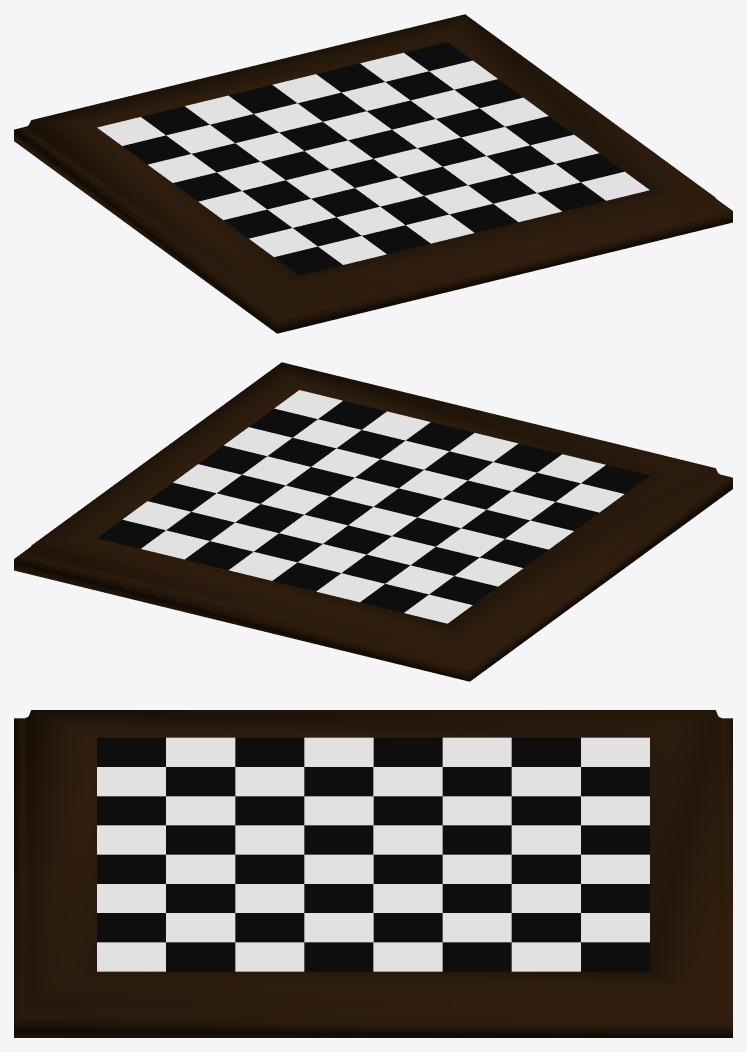
File: Chessboard.glb
3 views of the same model, one above another, from view 1: azimuth 30°, elevation 25°; view 2: azimuth 150°, elevation 25°; view 3: azimuth 270°, elevation 25° (orthographic). The views are drawn at different scales.
Parts seen in each view (by area): view 1: ChessBoard; view 2: ChessBoard; view 3: ChessBoard.
Part boxes in pixels (x1,y1,x2,y2): ChessBoard: (14, 14, 732, 333); ChessBoard: (14, 362, 732, 681); ChessBoard: (14, 710, 732, 1037).
Bounding box in the file's own units: 62.4 × 3 × 62.4.
